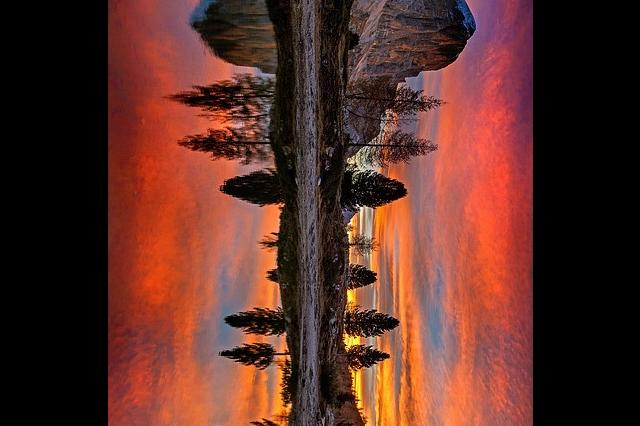Non_Gorille: (112, 0, 527, 426)
